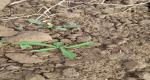osot: (13, 40, 94, 59)
